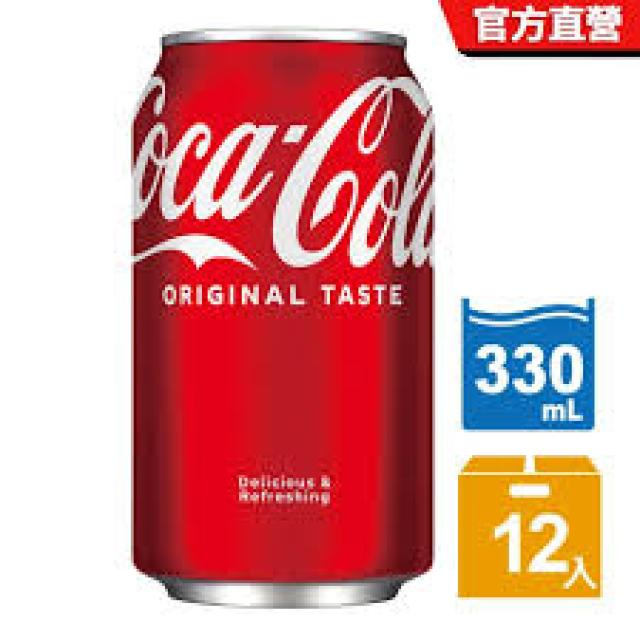aluminum_can: (134, 34, 432, 607)
